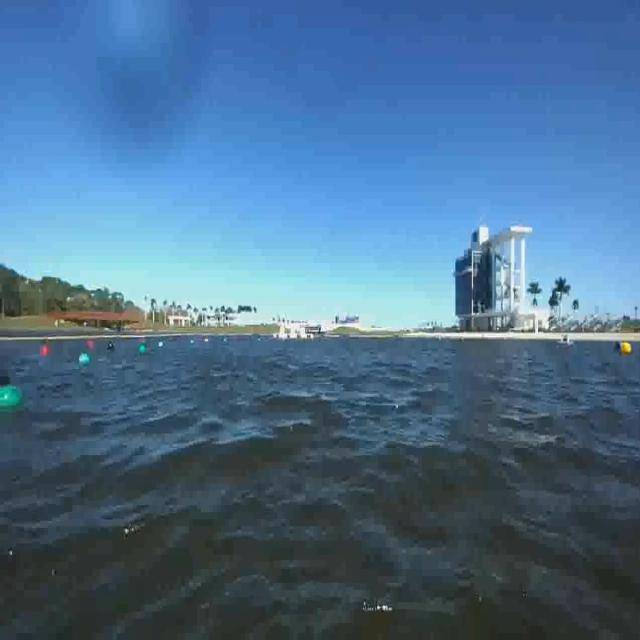black-buoy: (106, 339, 116, 352)
green-buoy: (0, 386, 24, 411), (78, 354, 90, 366), (139, 345, 147, 354)
red-buoy: (41, 346, 49, 357)
yellow-buoy: (622, 342, 633, 356)
